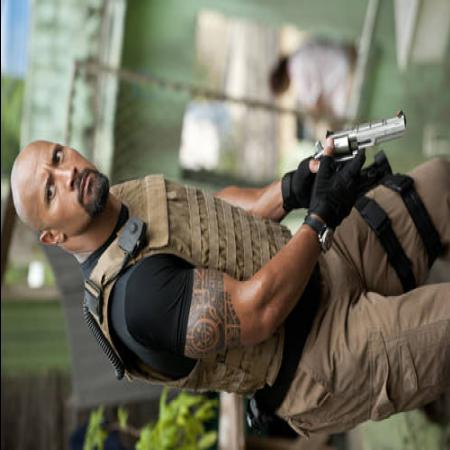Pistol: (314, 100, 410, 235)
